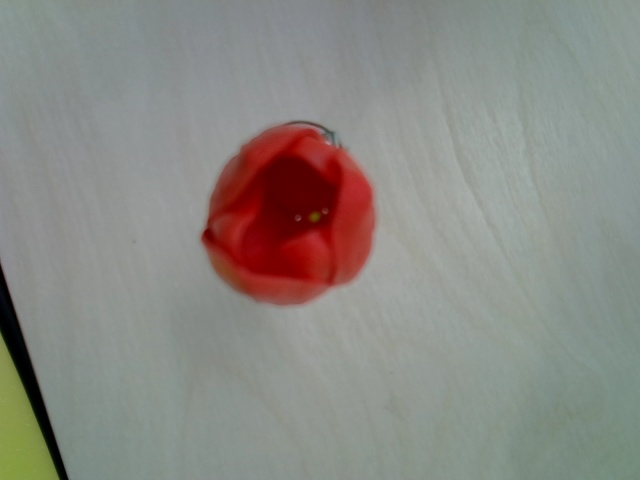튤립: (198, 123, 378, 308)
